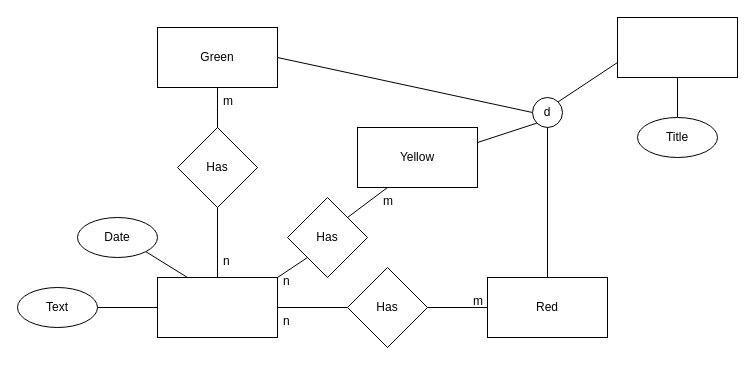
The diagram is 755 pixels wide and 365 high, and some of its shapes have lost their labels. The centre of each missing label's shape, as x and y in pixels:
Activities: (x=677, y=47)
Journal Entry: (x=217, y=307)
